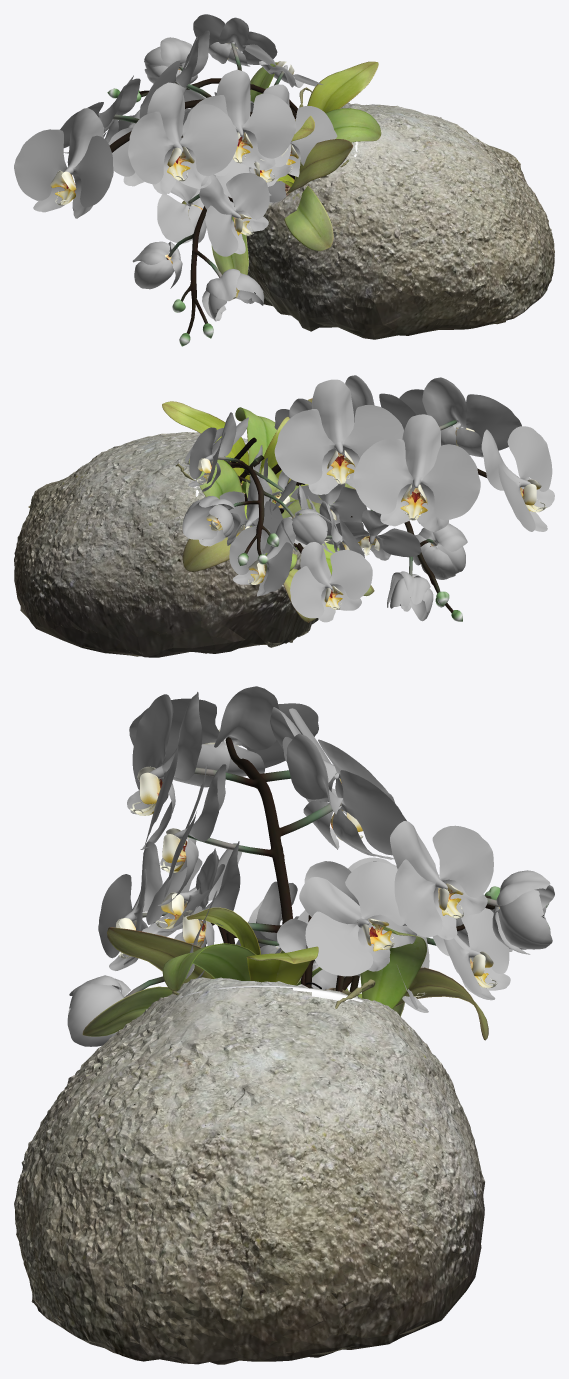
File: FroggyPotOrchidBig.compressed.glb
3 views of the same model, one above another, from view 1: azimuth 30°, elevation 25°; view 2: azimuth 150°, elevation 25°; view 3: azimuth 270°, elevation 25° (orthographic). The views are drawn at different scales.
Parts seen in each view (by area): view 1: Mesh_0.001, orchid_white_obj, orchid_white_obj.003; view 2: orchid_white_obj, Mesh_0.001, orchid_white_obj.003; view 3: Mesh_0.001, orchid_white_obj, orchid_white_obj.003.
Part boxes in pixels (left/top/right/bottom): Mesh_0.001: left=234, top=102, right=554, bottom=339; orchid_white_obj: left=14, top=14, right=337, bottom=346; orchid_white_obj.003: left=182, top=61, right=381, bottom=274; orchid_white_obj: left=179, top=375, right=554, bottom=622; Mesh_0.001: left=14, top=432, right=331, bottom=657; orchid_white_obj.003: left=162, top=398, right=374, bottom=622; Mesh_0.001: left=14, top=977, right=484, bottom=1364; orchid_white_obj: left=67, top=686, right=554, bottom=1046; orchid_white_obj.003: left=82, top=907, right=488, bottom=1040.
Bounding box in the file's own units: 0.342 × 0.1806 × 0.2132.
22 materials, 17 textured.
